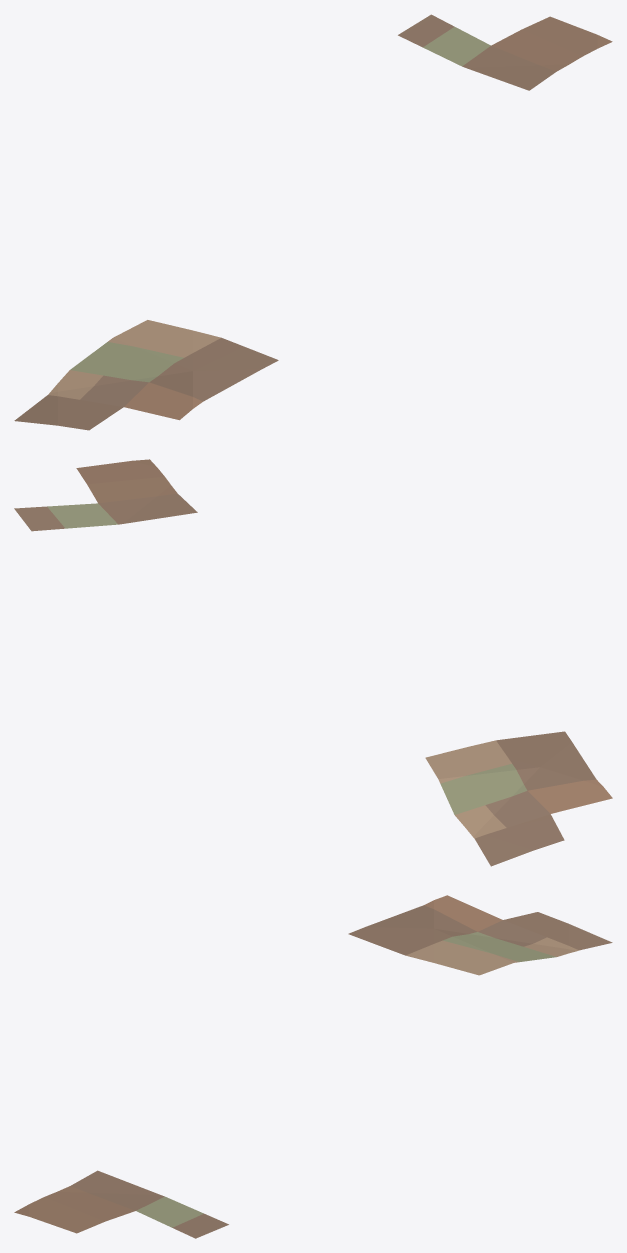
File: farm_-2_0_soil.glb
3 views of the same model, one above another, from view 1: azimuth 90°, elevation 25°; view 2: azimuth 150°, elevation 25°; view 3: azimuth 270°, elevation 25° (orthographic). The views are drawn at different scales.
Visible parts, largest first — view 1: geometry_0; view 2: geometry_0; view 3: geometry_0.
Boxes of the visible parts, left/top/right/bottom form: geometry_0: left=14, top=14, right=612, bottom=430; geometry_0: left=14, top=459, right=612, bottom=866; geometry_0: left=14, top=895, right=612, bottom=1238.
Bounding box in the file's own units: 526 × 37.23 × 355.
